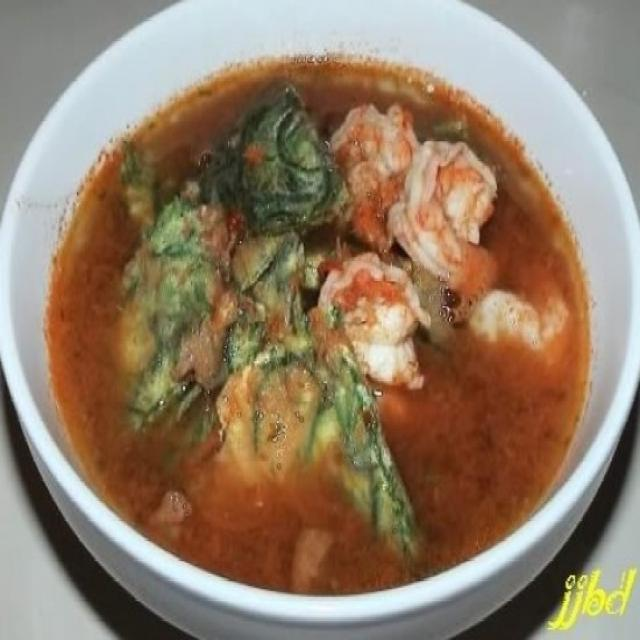汤锅炖物: (9, 8, 632, 626)
